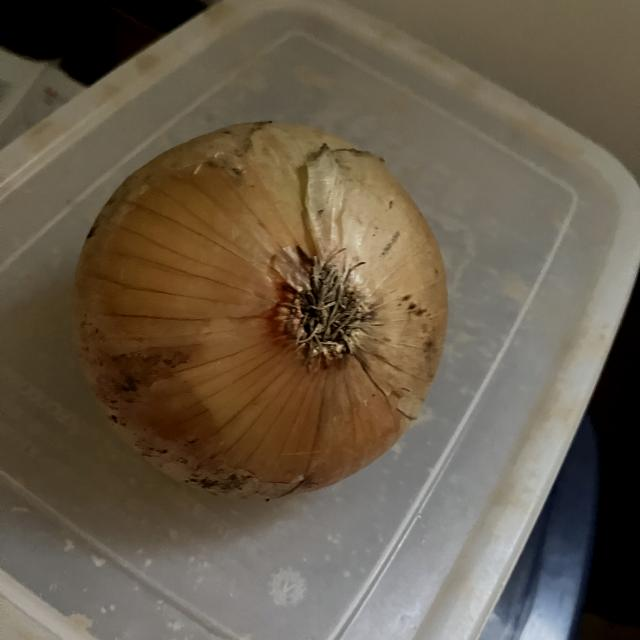onion: (71, 114, 452, 512)
